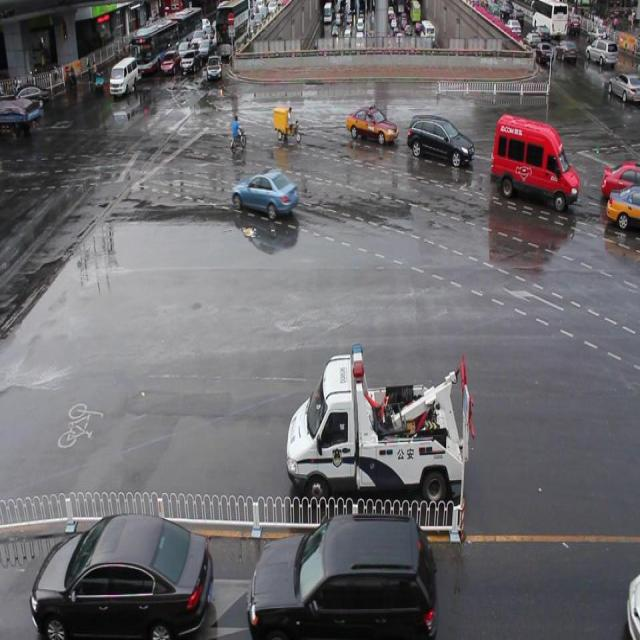bus: (287, 344, 475, 513)
car: (249, 511, 436, 640), (32, 513, 212, 640), (408, 116, 474, 170), (232, 169, 296, 216), (347, 105, 398, 145), (602, 159, 640, 202), (606, 186, 640, 231)
truck: (490, 113, 580, 213)
